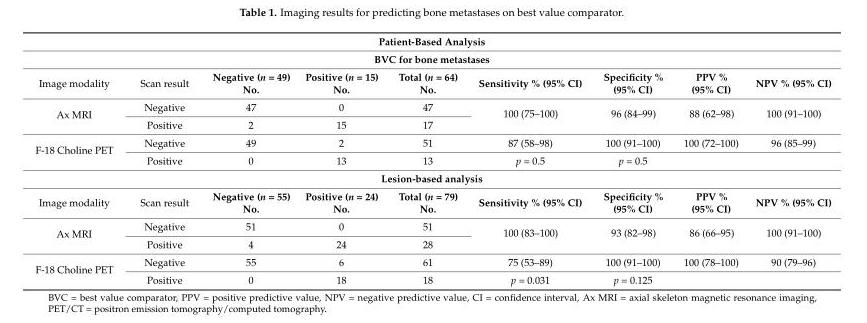table: (34, 34, 830, 285)
table column: (467, 34, 592, 285), (199, 34, 296, 285), (34, 34, 125, 285), (296, 34, 387, 285), (746, 34, 830, 285), (387, 34, 467, 285), (592, 34, 672, 285), (125, 34, 199, 285), (672, 34, 746, 285)
table column header: (34, 34, 830, 97)
table projected row header: (34, 169, 830, 187)
table row: (34, 67, 830, 97), (34, 187, 830, 217), (34, 49, 830, 67), (34, 97, 830, 115), (34, 115, 830, 133), (34, 133, 830, 151), (34, 151, 830, 169), (34, 169, 830, 187), (34, 234, 830, 252), (34, 252, 830, 270), (34, 217, 830, 234), (34, 34, 830, 49), (34, 270, 830, 285)
table spanning cell: (34, 34, 830, 67), (467, 97, 592, 133), (467, 217, 592, 252), (34, 97, 125, 133), (34, 133, 125, 169), (34, 217, 125, 252), (746, 97, 830, 133), (34, 252, 125, 285), (746, 217, 830, 252), (592, 97, 672, 133), (592, 217, 672, 252), (672, 97, 746, 133), (672, 217, 746, 252)
